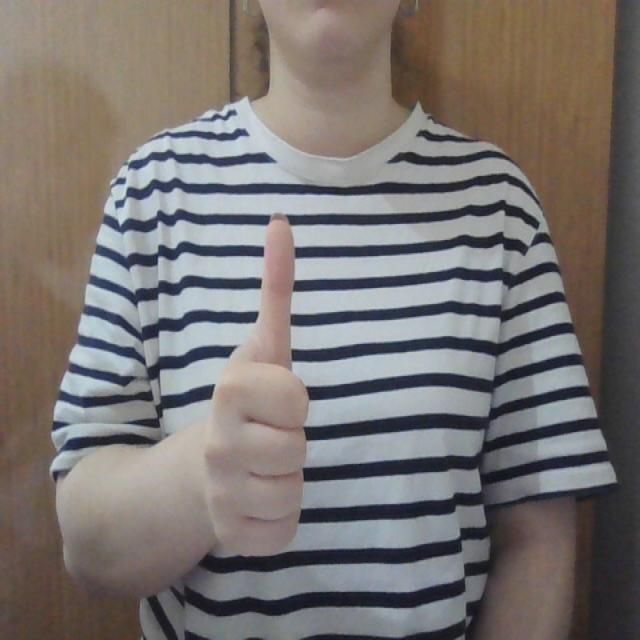Tamam: (195, 202, 322, 577)
